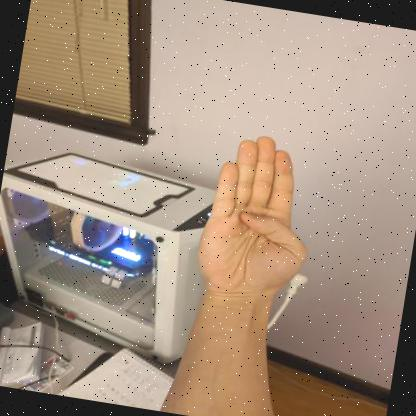B: (197, 136, 307, 306)
